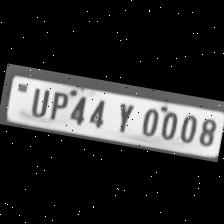0: (134, 103, 162, 139), (174, 108, 199, 144), (156, 105, 180, 141)
4: (83, 92, 111, 128), (63, 90, 89, 125)
8: (194, 113, 220, 146)
P: (45, 86, 69, 120)
U: (25, 83, 51, 117)
Y: (108, 97, 138, 135)
